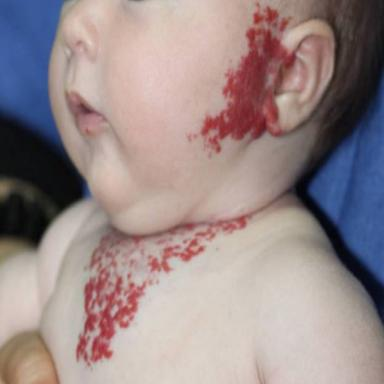Hemangiome: (201, 6, 295, 152), (77, 267, 147, 365), (149, 238, 204, 272)
